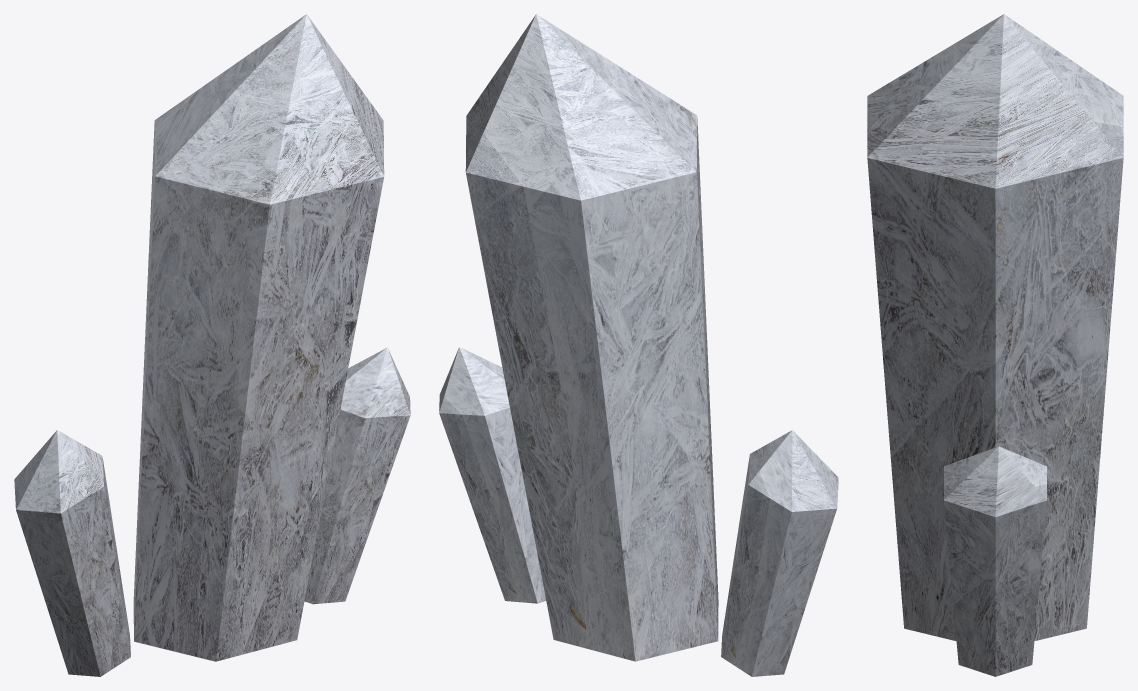
File: LampLight_3DAsset_BackgroundCrystal1.FBX
The picture shows the model from 3 angles, left to right: view 1: azimuth 30°, elevation 25°; view 2: azimuth 150°, elevation 25°; view 3: azimuth 270°, elevation 25°; orthographic projection. The views are drawn at different scales.
Visible parts, largest first — view 1: LampLight_BG_Crystal, LampLight_BG_Crystal002, LampLight_BG_Crystal001; view 2: LampLight_BG_Crystal, LampLight_BG_Crystal002, LampLight_BG_Crystal001; view 3: LampLight_BG_Crystal, LampLight_BG_Crystal001.
Boxes of the visible parts, bbox=[...] form: LampLight_BG_Crystal: bbox=[133, 14, 384, 661]; LampLight_BG_Crystal002: bbox=[14, 430, 130, 676]; LampLight_BG_Crystal001: bbox=[304, 347, 410, 604]; LampLight_BG_Crystal: bbox=[465, 14, 718, 661]; LampLight_BG_Crystal002: bbox=[721, 430, 838, 676]; LampLight_BG_Crystal001: bbox=[439, 347, 545, 603]; LampLight_BG_Crystal: bbox=[867, 14, 1123, 641]; LampLight_BG_Crystal001: bbox=[944, 446, 1046, 676].
Size of the model in its own units: 18.86 by 27.37 by 9.56.
